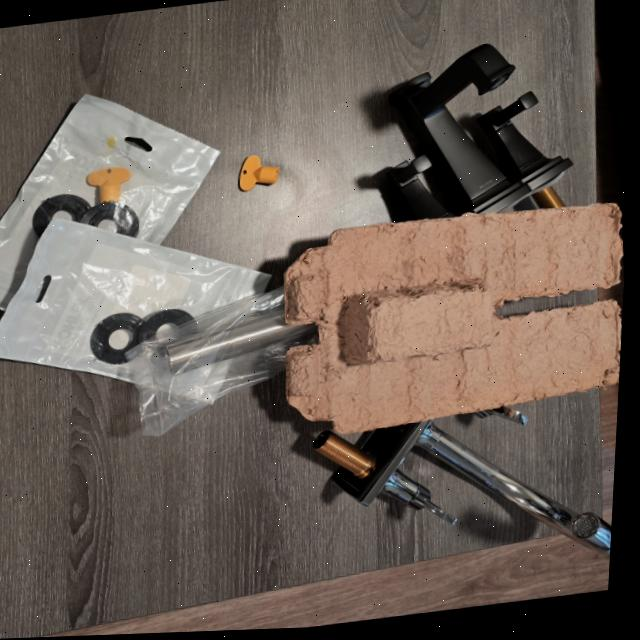10o: (313, 419, 612, 552), (476, 406, 527, 423)
11o: (122, 286, 316, 433)
12o: (0, 93, 219, 308)
13o: (0, 216, 270, 380)
14: (238, 154, 279, 190)
9o: (389, 42, 572, 218)
